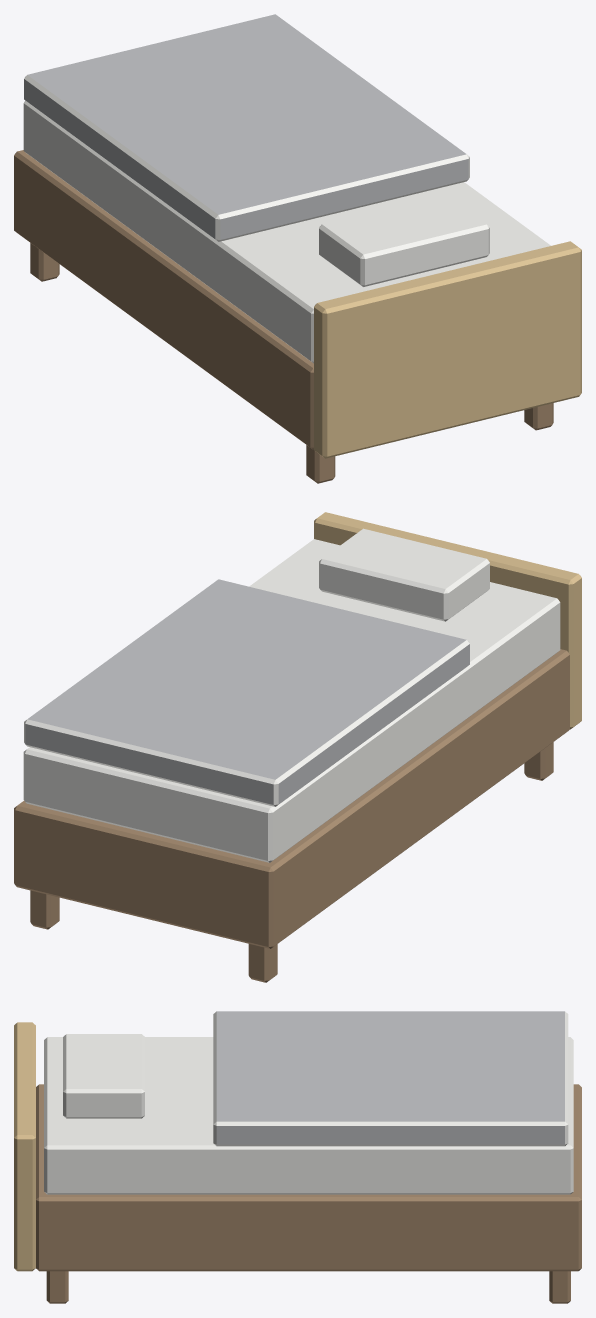
Rendered from 家具_单人床_01.fbx.
3 renders of one model, top to bottom at view 1: azimuth 30°, elevation 25°; view 2: azimuth 150°, elevation 25°; view 3: azimuth 270°, elevation 25°, orthographic. The views are drawn at different scales.
Visible parts, largest first — view 1: 床品, 床头板, 床架, 床垫, 床腿; view 2: 床品, 床架, 床垫, 床头板, 床腿; view 3: 床品, 床架, 床垫, 床头板, 床腿.
Boxes of the visible parts, x1,y1,x2,y2 form: 床品: (24,14,489,286); 床头板: (314,241,581,458); 床架: (14,150,313,449); 床垫: (23,101,550,363); 床腿: (30,243,553,483); 床品: (24,528,489,806); 床架: (14,649,569,948); 床垫: (23,539,560,862); 床头板: (314,512,581,729); 床腿: (30,742,553,982); 床品: (63,1011,568,1146); 床架: (36,1084,581,1271); 床垫: (44,1037,573,1194); 床头板: (14,1022,35,1271); 床腿: (46,1271,570,1303).
Bounding box in the file's own units: 100 × 77 × 208.
